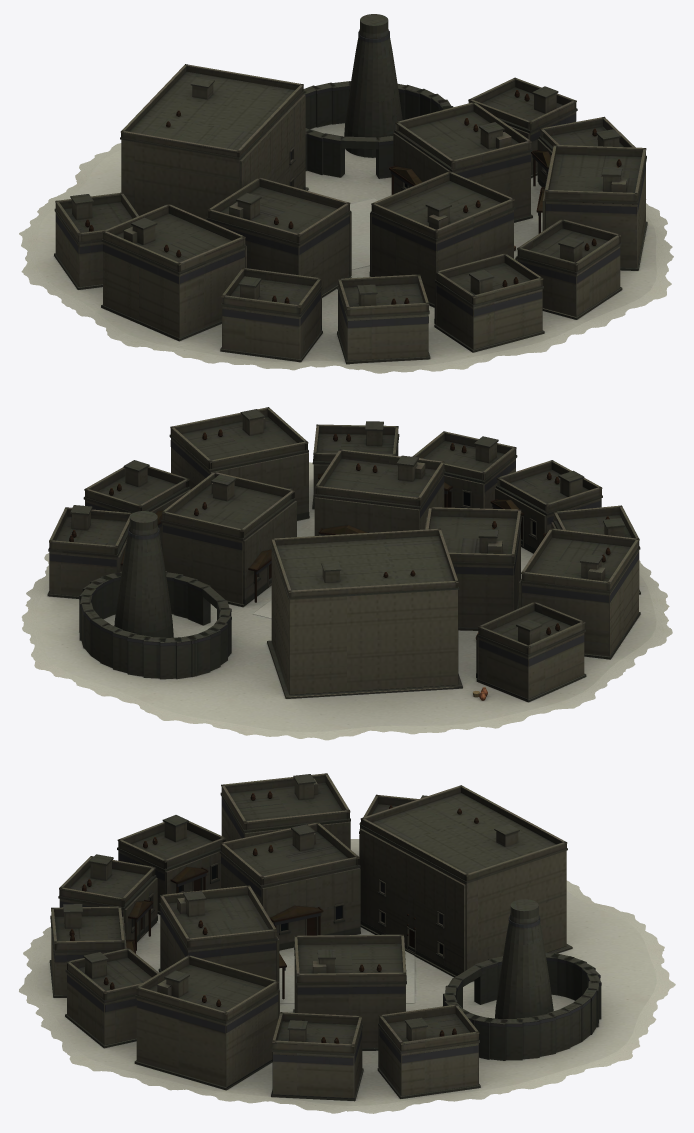
The model's file is kingdoms-town-medium-b-eastafrica-dce8bbdc.glb.
3 views of the same model, one above another, from view 1: azimuth 30°, elevation 25°; view 2: azimuth 150°, elevation 25°; view 3: azimuth 270°, elevation 25° (orthographic).
Visible parts, largest first — view 1: LOD0; view 2: LOD0; view 3: LOD0.
Part boxes in pixels (left/top/right/bottom): LOD0: left=19, top=14, right=673, bottom=373; LOD0: left=21, top=407, right=672, bottom=740; LOD0: left=19, top=773, right=675, bottom=1113.
Size of what is drawn, in the model's own units: 5.96 by 1.26 by 5.93.
Materials: 3 (3 with a texture image).
